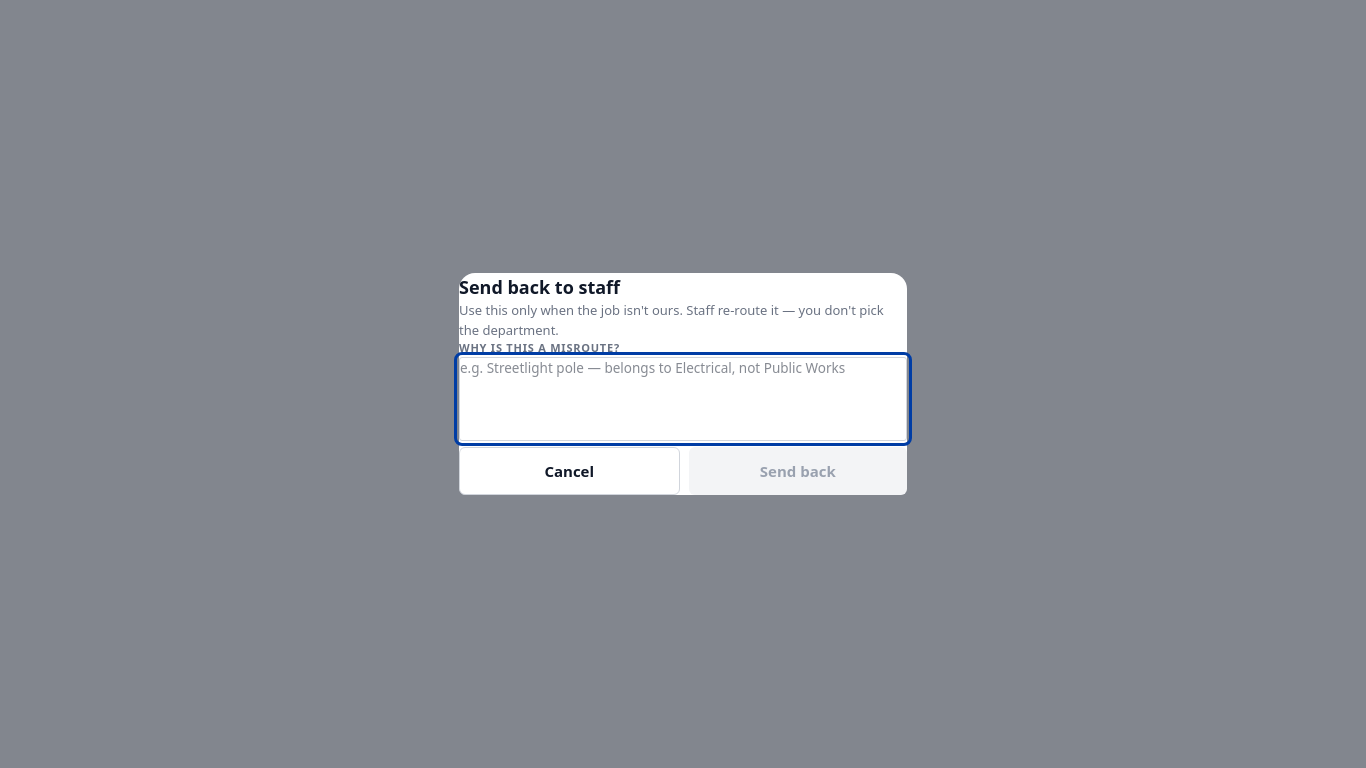
RejectSheet › sends once there is a reason
The width and height of the screenshot is (1366, 768).
Replace the text in the text box labelled "Why is this a misroute?" with "Streetlight pole — belongs to Electrical" at point(683, 399), box left=459, top=357, right=907, bottom=441
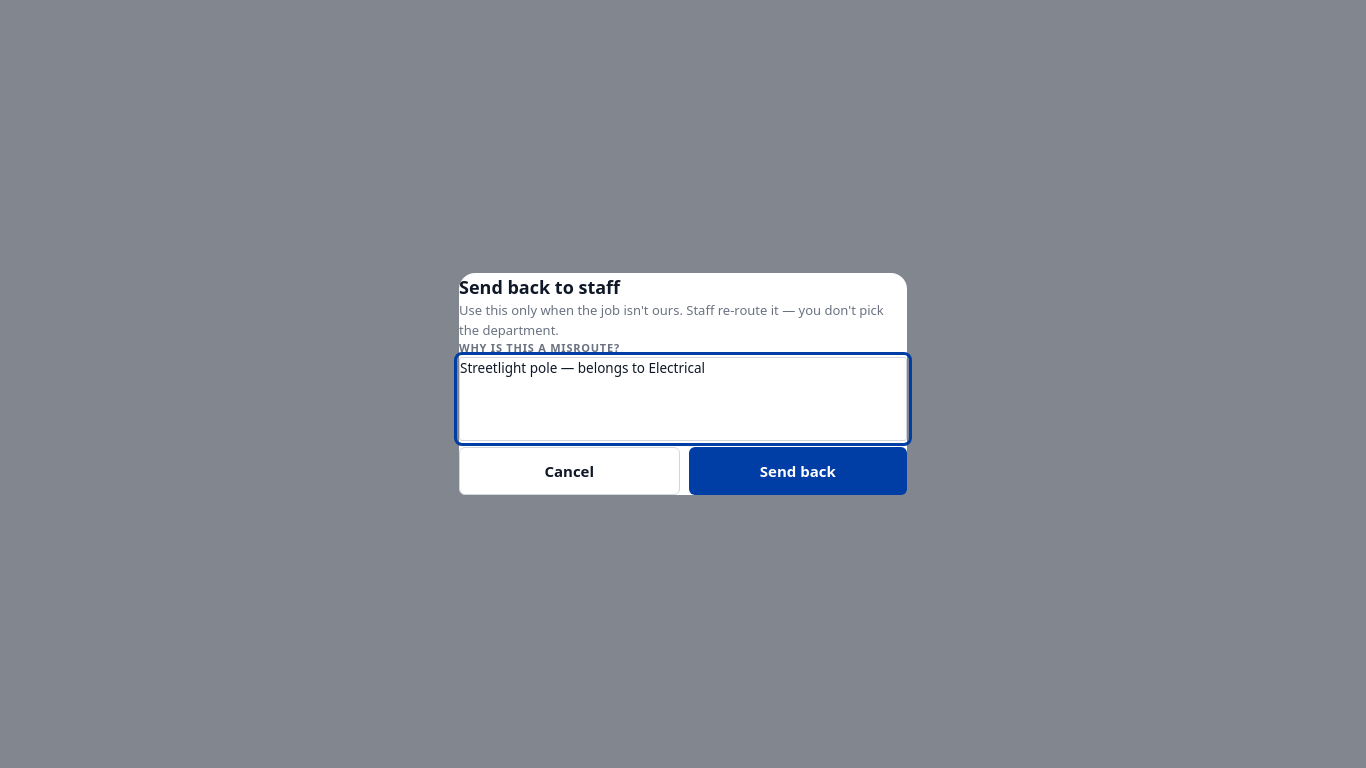
Check: the button "Send back" is enabled, box left=688, top=447, right=907, bottom=495
